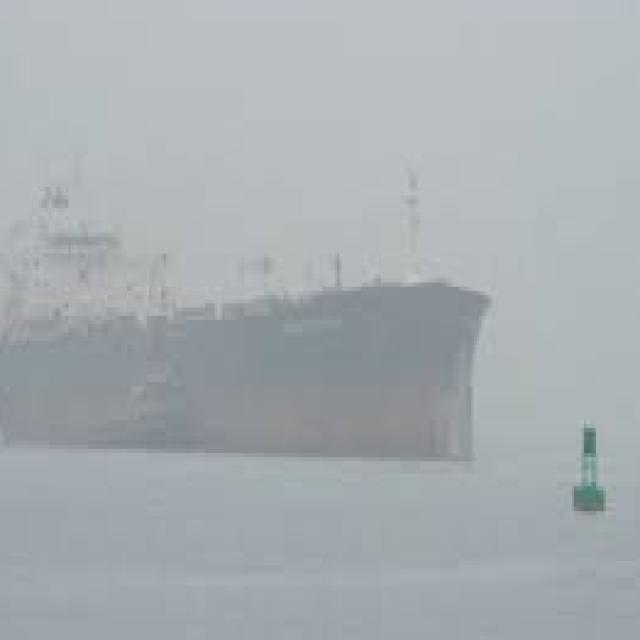cargoship: (0, 174, 491, 466)
